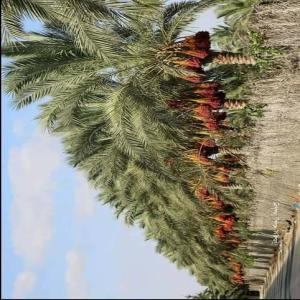palm tree: (1, 0, 275, 299)
